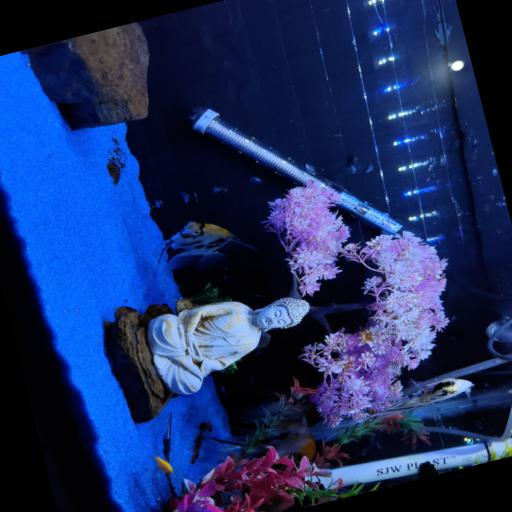Fish: (362, 378, 473, 419), (161, 222, 253, 271), (370, 378, 472, 419), (150, 457, 172, 474)
